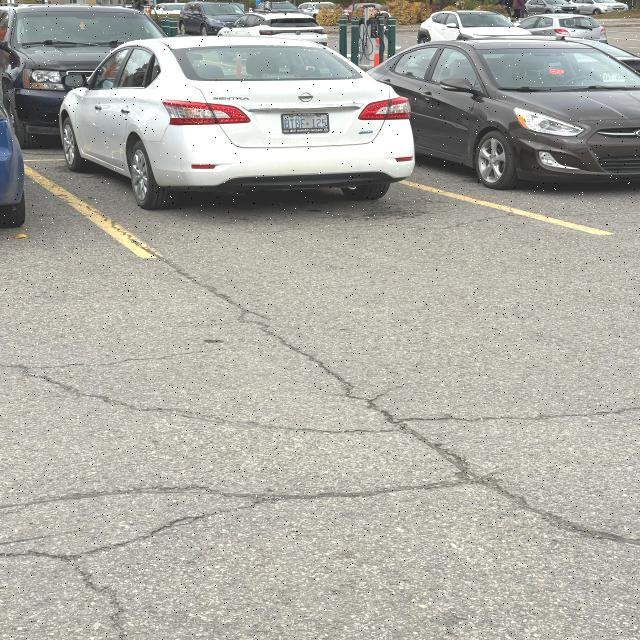plaque: (282, 113, 329, 133)
